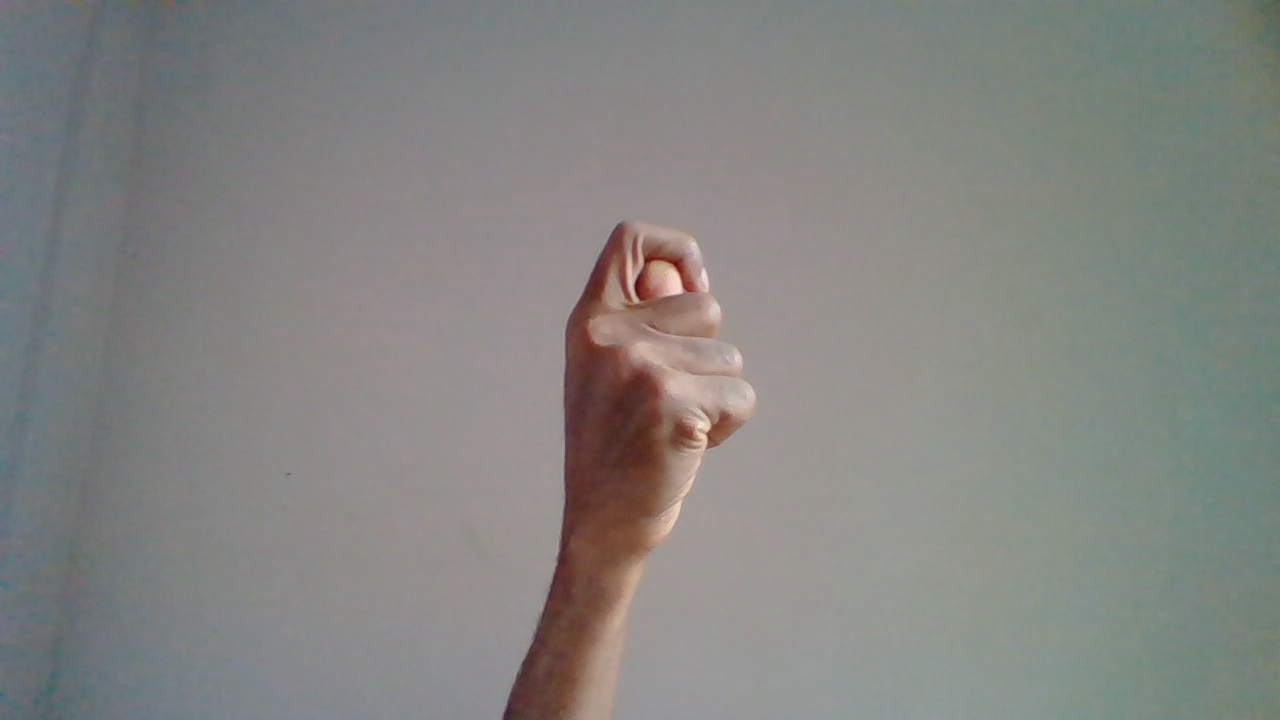che: (569, 217, 763, 666)
